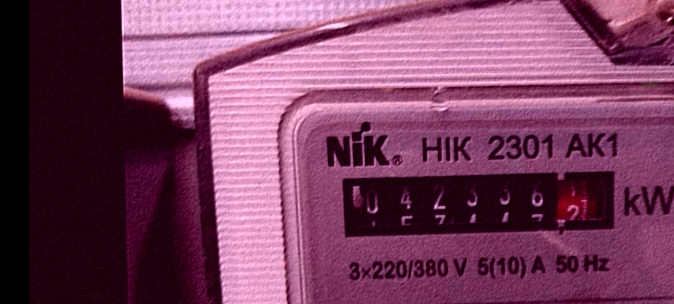0: (363, 189, 379, 218)
1: (565, 179, 578, 201)
2: (430, 184, 447, 213), (564, 205, 580, 223)
3: (494, 179, 511, 210), (462, 182, 478, 210)
4: (396, 184, 414, 213)
6: (528, 181, 546, 211)
screen: (330, 161, 628, 248)
